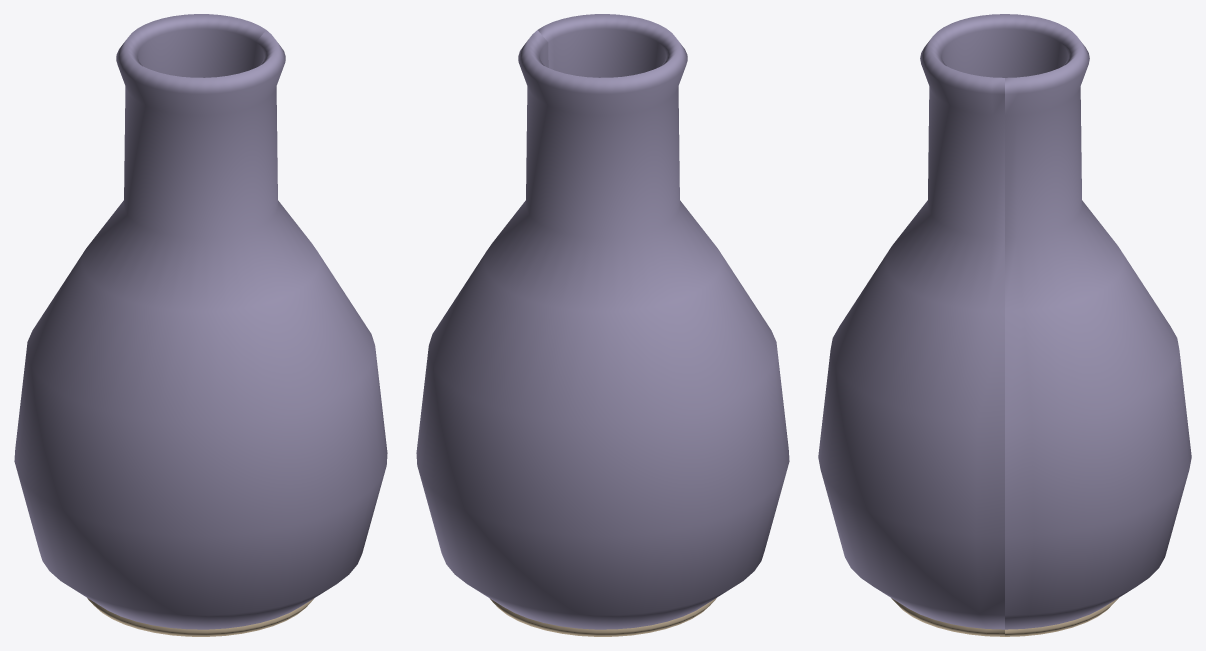
The model's file is product-off.vase.glb.
3 renders of one model, left to right at view 1: azimuth 30°, elevation 25°; view 2: azimuth 150°, elevation 25°; view 3: azimuth 270°, elevation 25°, orthographic.
Parts seen in each view (by area): view 1: product-off.vase; view 2: product-off.vase; view 3: product-off.vase.
Part boxes in pixels (bbox=[...]): product-off.vase: bbox=[14, 14, 387, 636]; product-off.vase: bbox=[416, 14, 789, 636]; product-off.vase: bbox=[818, 14, 1191, 636].
Size of the model in its own units: 0.242 by 0.388 by 0.242.
